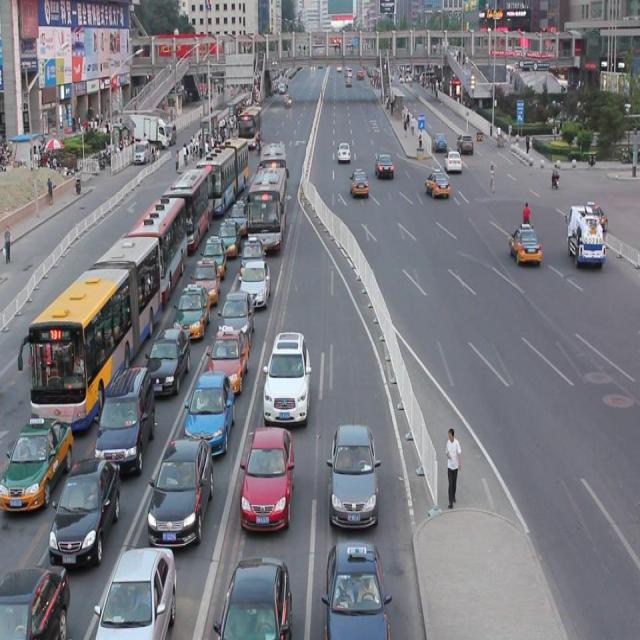bus: (564, 203, 604, 268)
car: (94, 538, 175, 640), (48, 452, 120, 554), (321, 535, 389, 640), (148, 428, 213, 536), (214, 551, 290, 640), (0, 411, 70, 503), (94, 358, 154, 461), (0, 554, 68, 640), (327, 417, 380, 517), (240, 422, 294, 517), (262, 325, 310, 415), (185, 364, 233, 442), (146, 317, 189, 386), (205, 320, 248, 384), (218, 284, 254, 339), (174, 278, 210, 330), (27, 325, 66, 371), (508, 222, 540, 264), (241, 252, 270, 298), (190, 250, 220, 294), (200, 229, 226, 269), (240, 228, 263, 270), (216, 210, 239, 246), (582, 198, 607, 231), (227, 191, 250, 226), (424, 167, 449, 198), (349, 169, 368, 195), (375, 153, 393, 176), (443, 148, 460, 172), (456, 134, 473, 154), (336, 140, 350, 162), (432, 131, 446, 151)
van: (16, 230, 160, 421), (123, 187, 186, 296), (197, 125, 247, 203), (247, 162, 286, 250), (168, 158, 208, 241), (259, 142, 289, 195)
